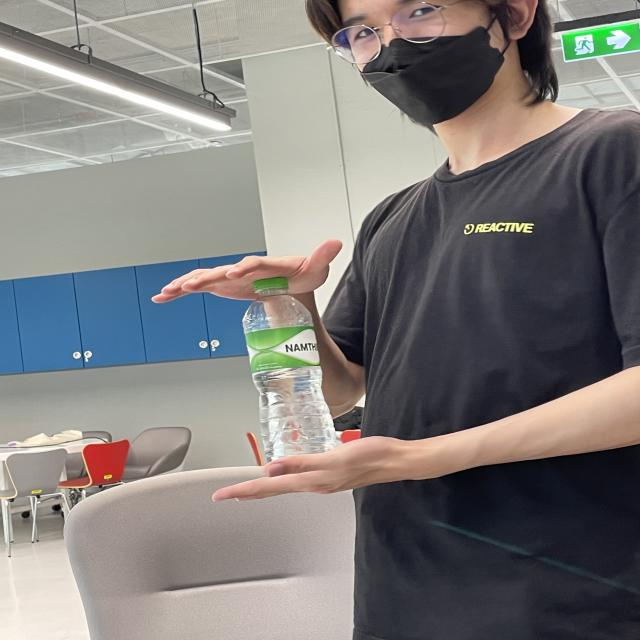bottle: (240, 277, 337, 466)
